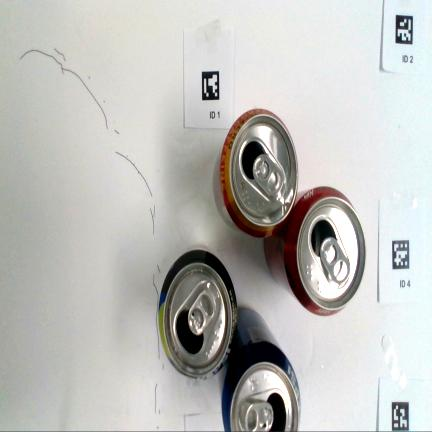can_coke_decaf: (215, 109, 298, 237)
can_coke_zero: (264, 186, 365, 316)
can_pepsi: (222, 308, 300, 432)
can_pepsi_zero: (158, 249, 237, 377)
